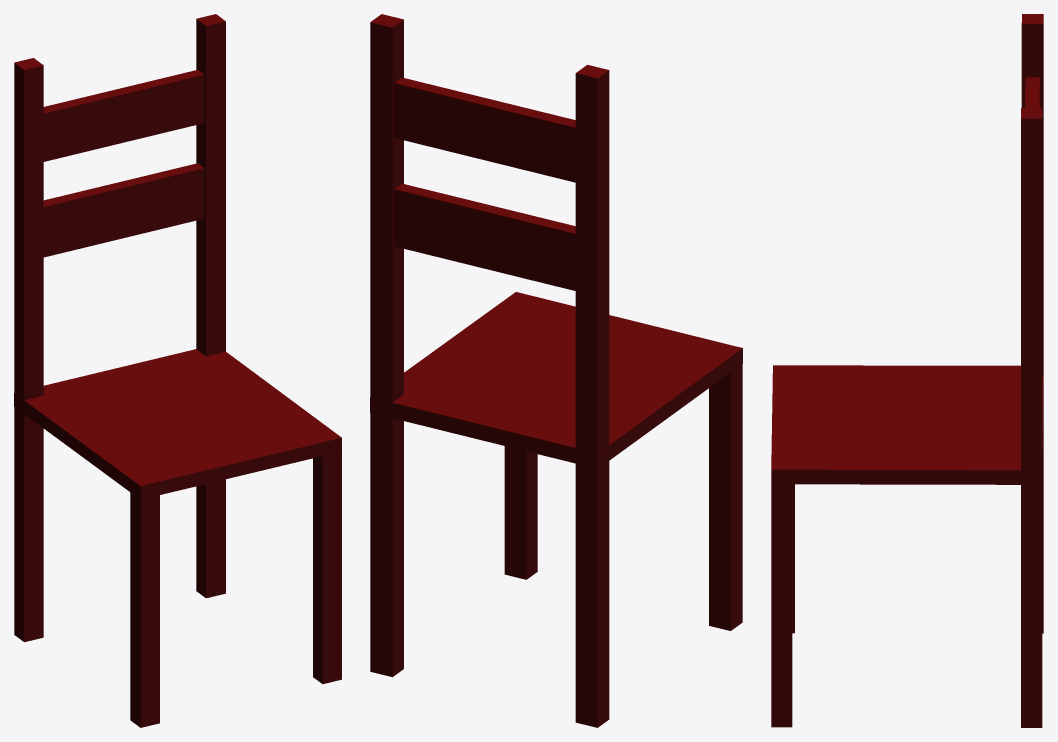
File: WoodChair.glb
3 renders of one model, left to right at view 1: azimuth 30°, elevation 25°; view 2: azimuth 150°, elevation 25°; view 3: azimuth 270°, elevation 25°, orthographic. The views are drawn at different scales.
Visible parts, largest first — view 1: WoodChair; view 2: WoodChair; view 3: WoodChair.
Part boxes in pixels (x1,y1,x2,y2): WoodChair: [14, 14, 341, 727]; WoodChair: [370, 14, 742, 727]; WoodChair: [771, 14, 1043, 727].
Size of the model in its own units: 2.07 by 5.61 by 2.27.
